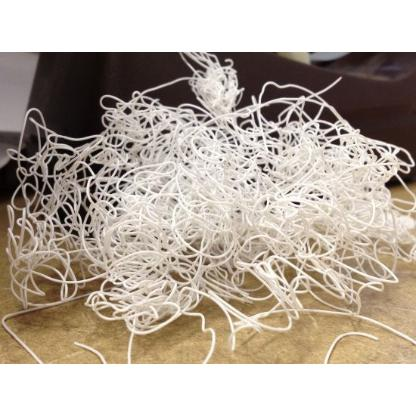fail: (7, 68, 409, 338)
